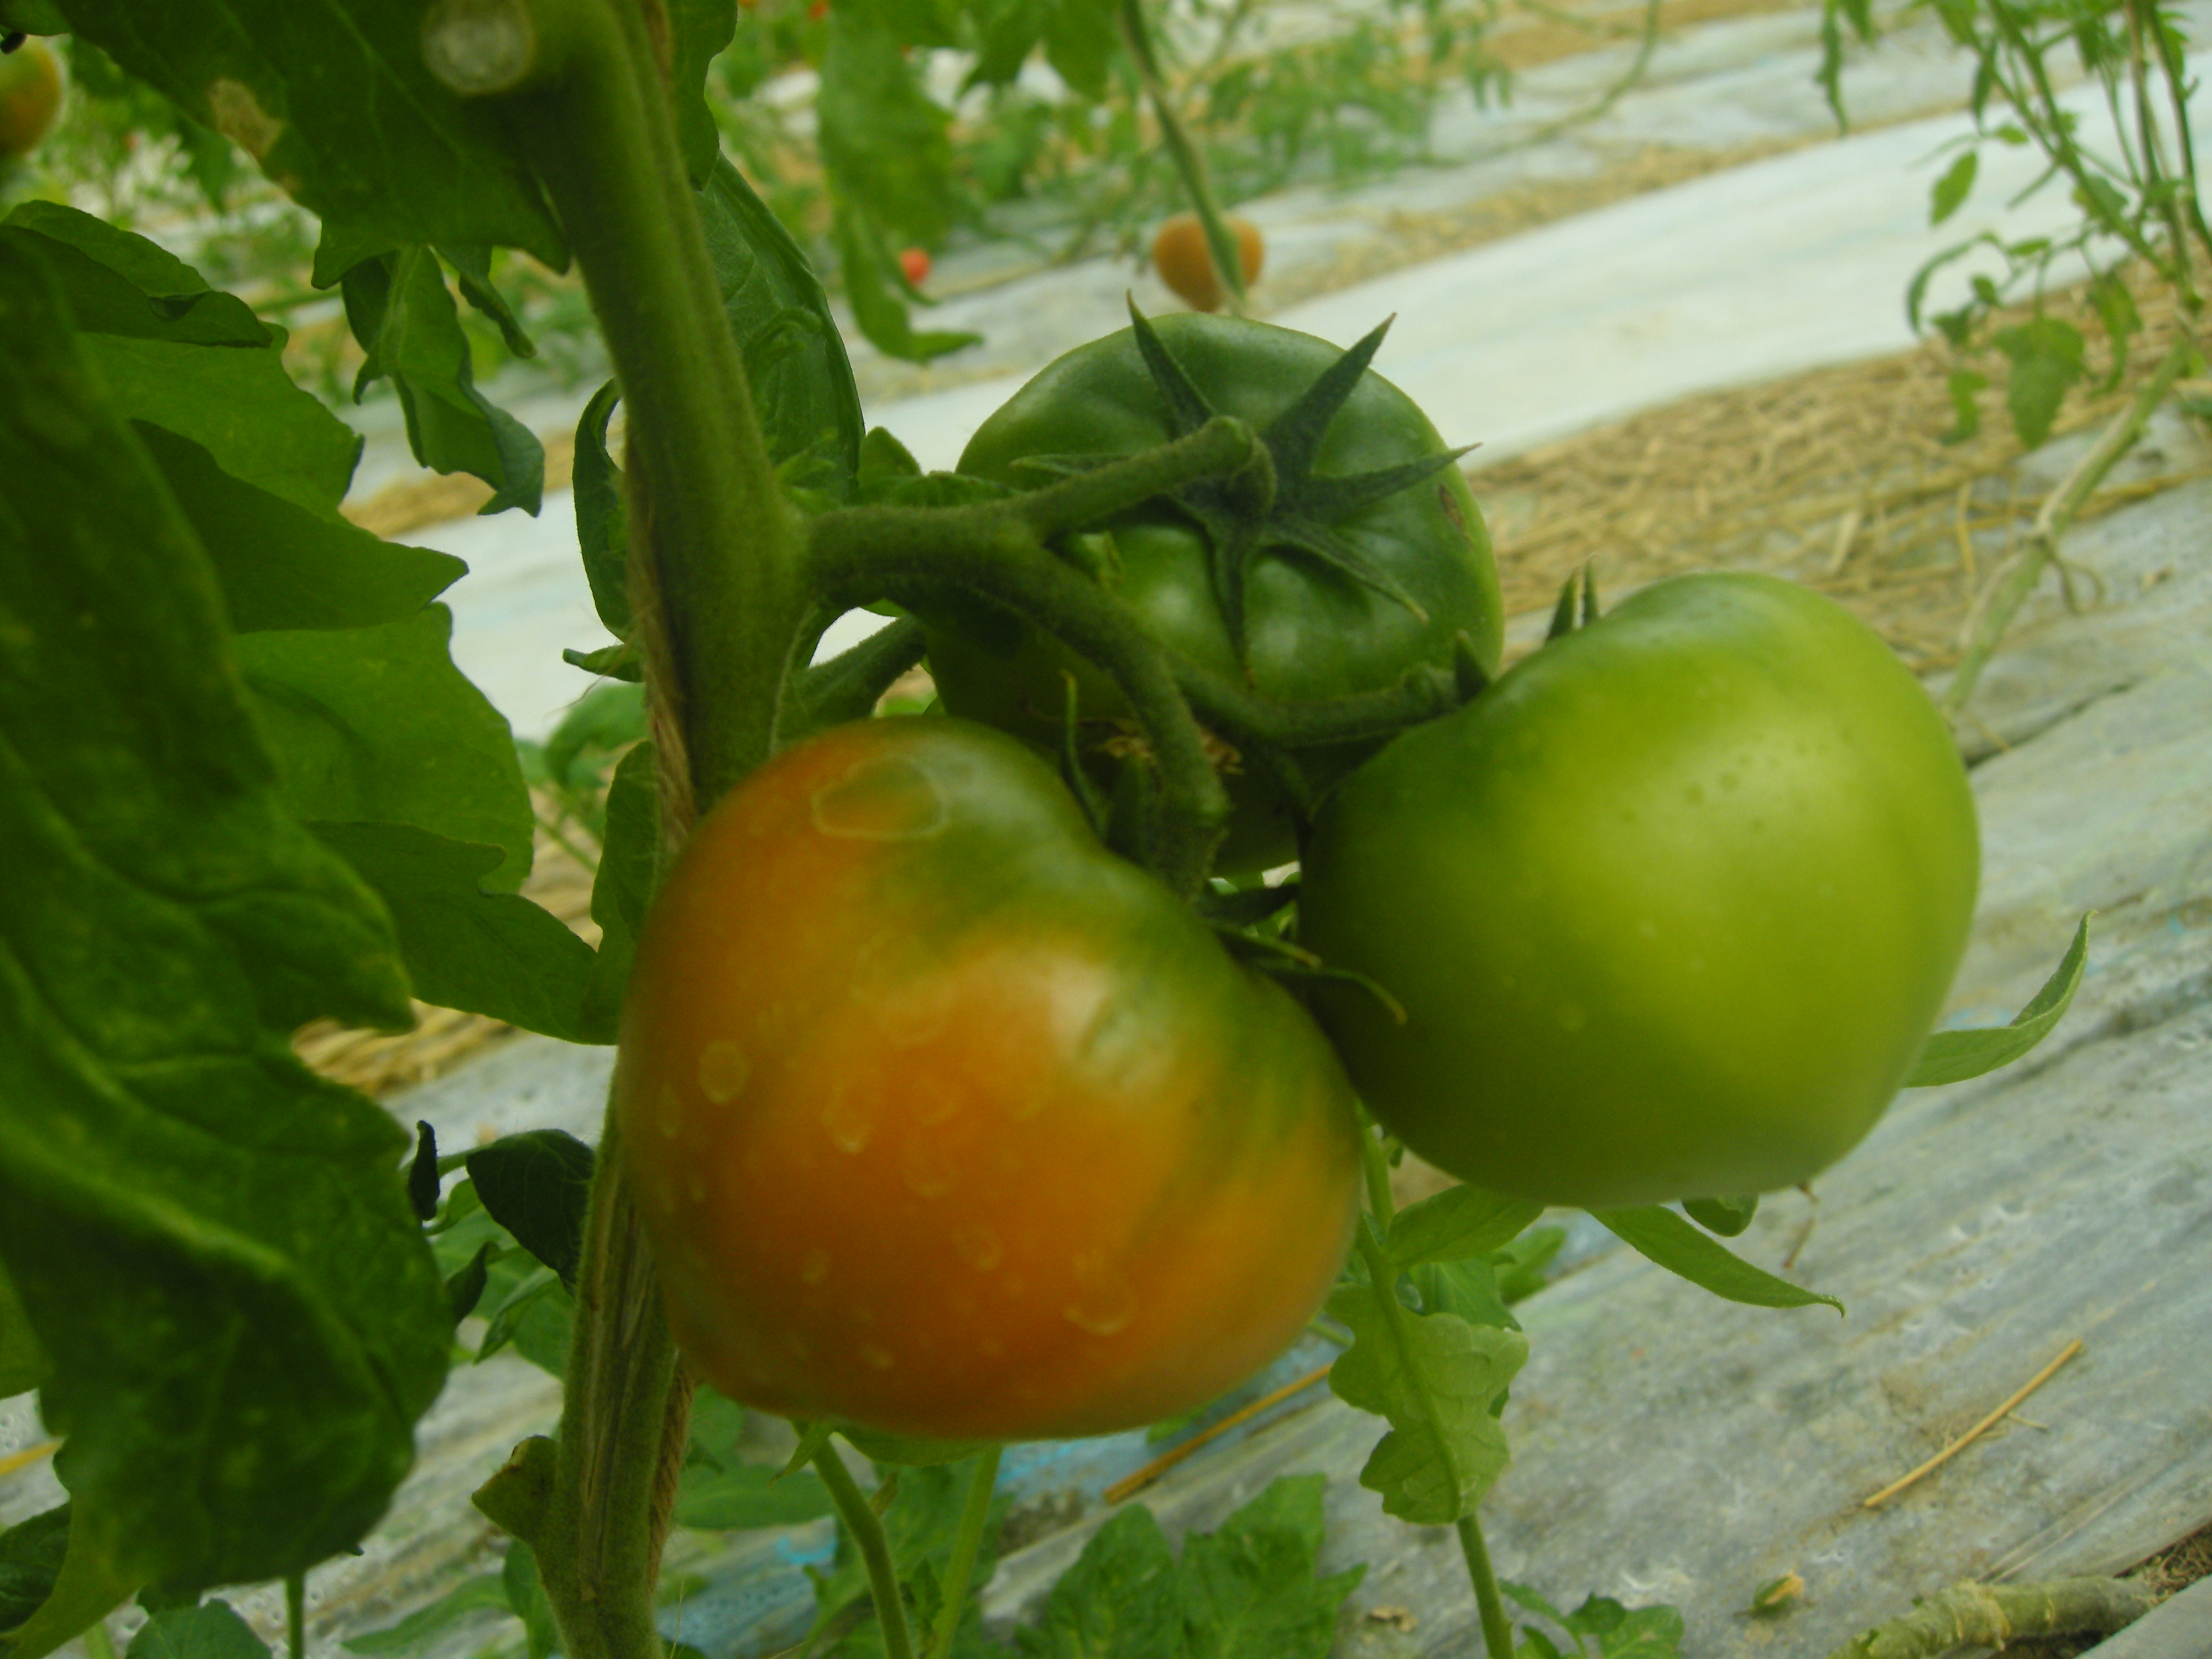tomato: (629, 711, 1400, 1452), (1318, 575, 1989, 1202), (961, 308, 1508, 830)
